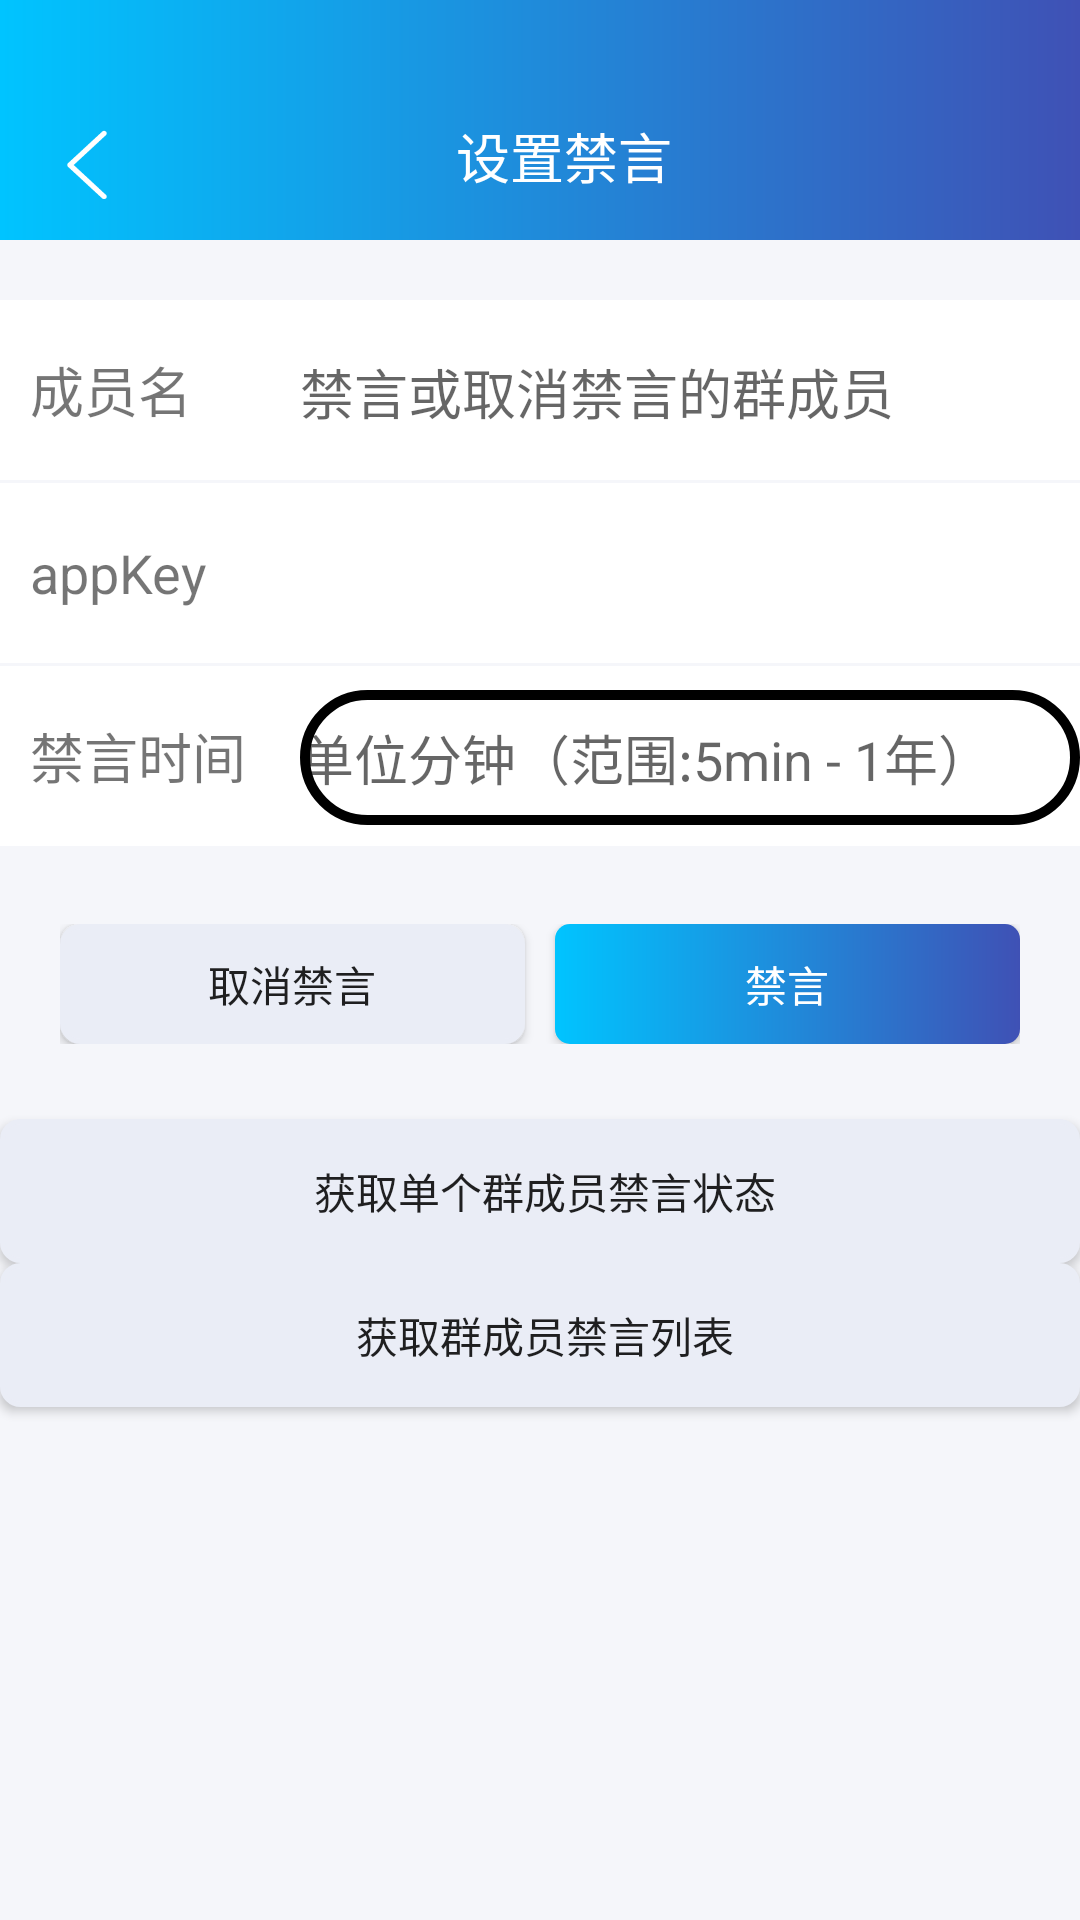

Icon click points for this 1080 x 1920 phone screenshot, format (x,y):
back: (87,164)
